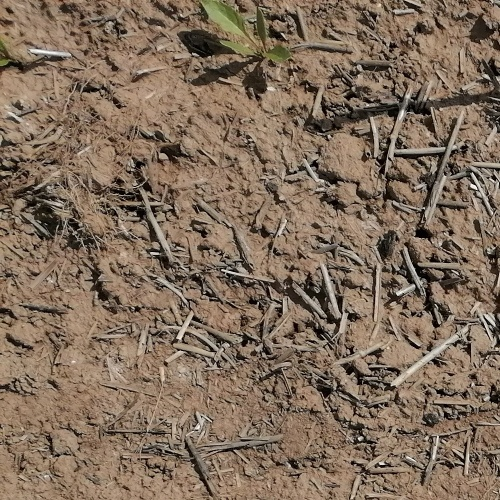beet: (198, 0, 293, 60), (0, 40, 21, 66)
